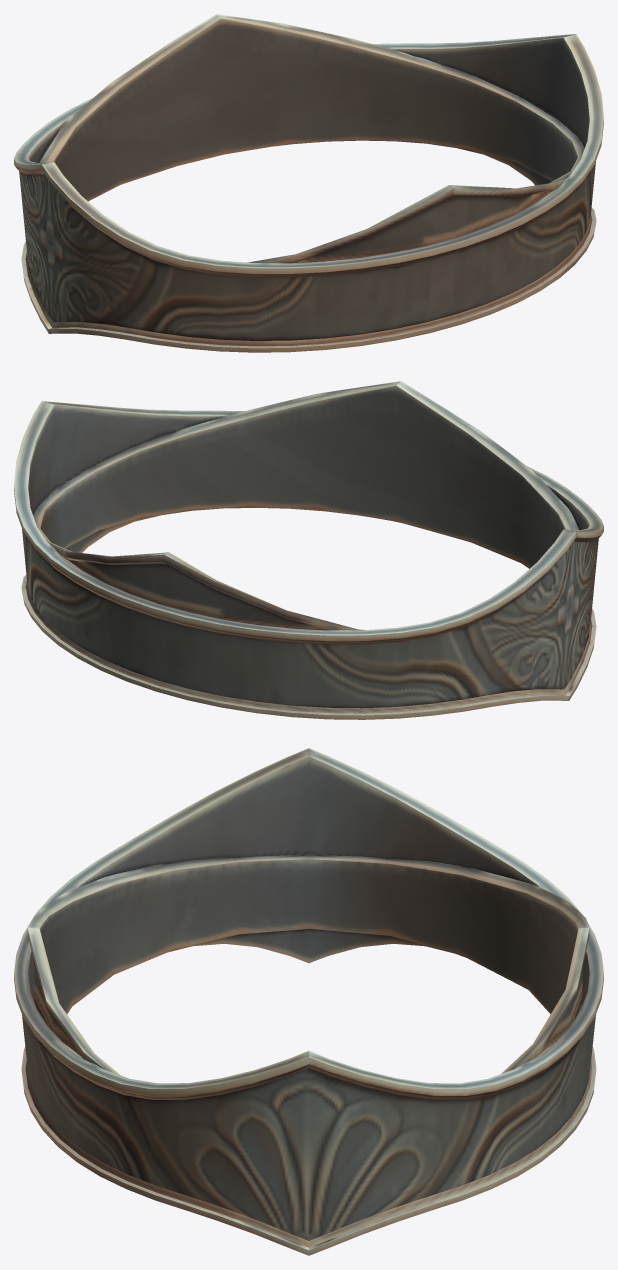
Rendered from SM_Male_Crown_Bronze.fbx.
3 views of the same model, one above another, from view 1: azimuth 30°, elevation 25°; view 2: azimuth 150°, elevation 25°; view 3: azimuth 270°, elevation 25° (orthographic). The views are drawn at different scales.
Parts seen in each view (by area): view 1: SM_Male_Crown_Bronze_LOD0; view 2: SM_Male_Crown_Bronze_LOD0; view 3: SM_Male_Crown_Bronze_LOD0.
Part boxes in pixels (<box>): SM_Male_Crown_Bronze_LOD0: <box>14,14,603,352</box>; SM_Male_Crown_Bronze_LOD0: <box>14,381,603,719</box>; SM_Male_Crown_Bronze_LOD0: <box>14,748,603,1255</box>.
Size of the model in its own units: 21.26 by 17.15 by 6.53.
1 material, 1 textured.
